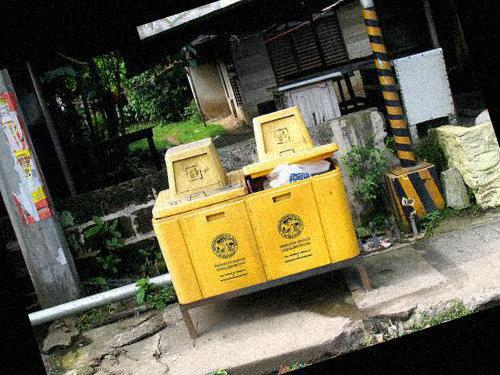Bote de Basura: (225, 94, 368, 288), (130, 124, 276, 314)
